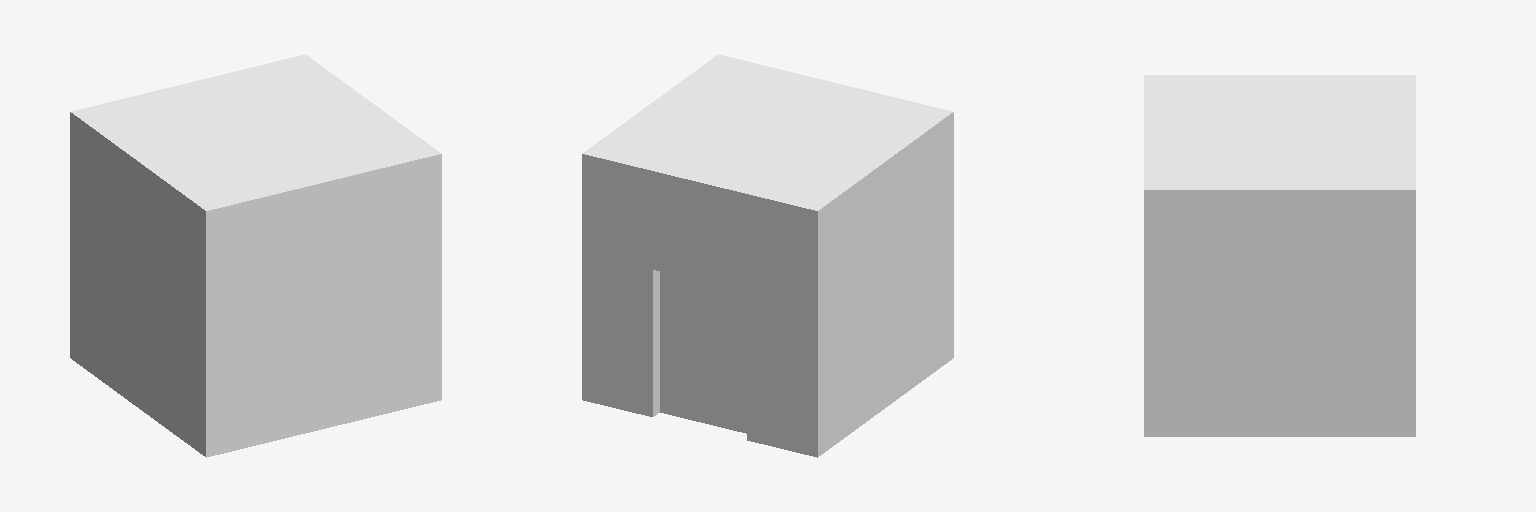
Rendered from wall-fortified-paint-door.obj.
3 renders of one model, left to right at view 1: azimuth 30°, elevation 25°; view 2: azimuth 150°, elevation 25°; view 3: azimuth 270°, elevation 25°, orthographic.
Visible parts, largest first — view 1: wall-fortified-paint-door; view 2: wall-fortified-paint-door; view 3: wall-fortified-paint-door.
Part boxes in pixels (bbox=[...]): wall-fortified-paint-door: bbox=[70, 54, 441, 457]; wall-fortified-paint-door: bbox=[582, 54, 953, 457]; wall-fortified-paint-door: bbox=[1144, 75, 1415, 436].
Size of the model in its own units: 1 by 1 by 1.